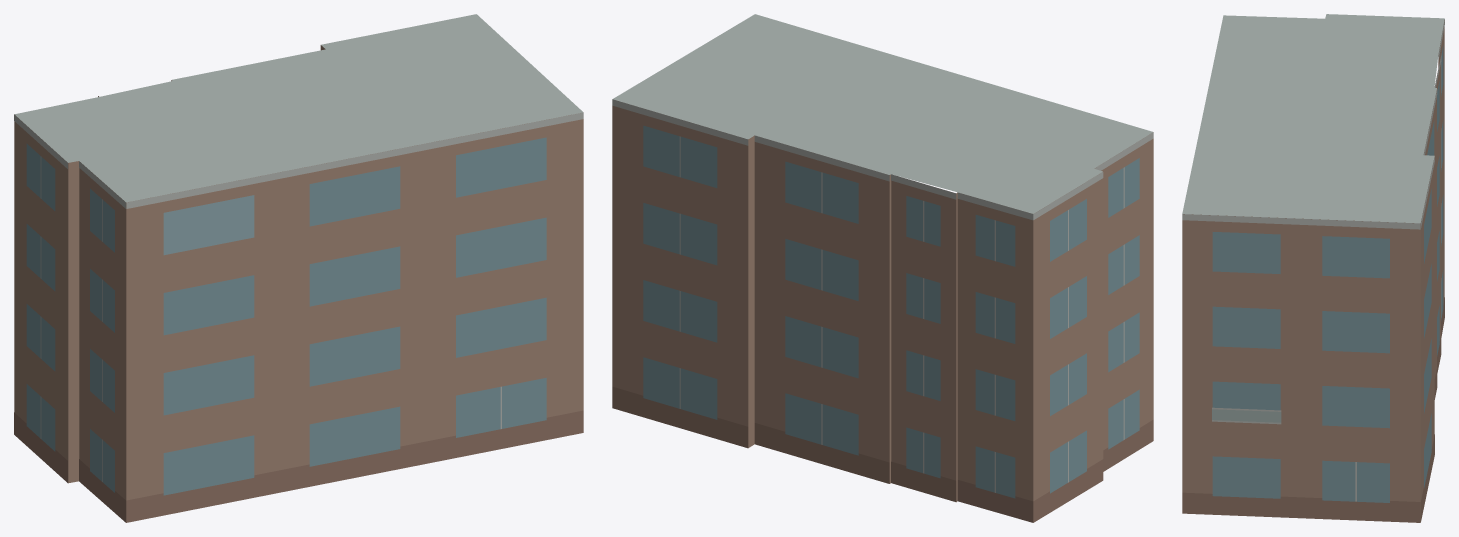
Rendered from survey-upis-33013018.glb.
3 renders of one model, left to right at view 1: azimuth 30°, elevation 25°; view 2: azimuth 150°, elevation 25°; view 3: azimuth 270°, elevation 25°, orthographic. The views are drawn at different scales.
Visible parts, largest first — view 1: survey-upis-33013018.tmp; view 2: survey-upis-33013018.tmp; view 3: survey-upis-33013018.tmp.
Part boxes in pixels (x1,y1,x2,y2): survey-upis-33013018.tmp: (14, 14, 583, 522); survey-upis-33013018.tmp: (612, 14, 1153, 522); survey-upis-33013018.tmp: (1182, 14, 1444, 522).
Size of the model in its own units: 17.7 by 11.8 by 9.39.
